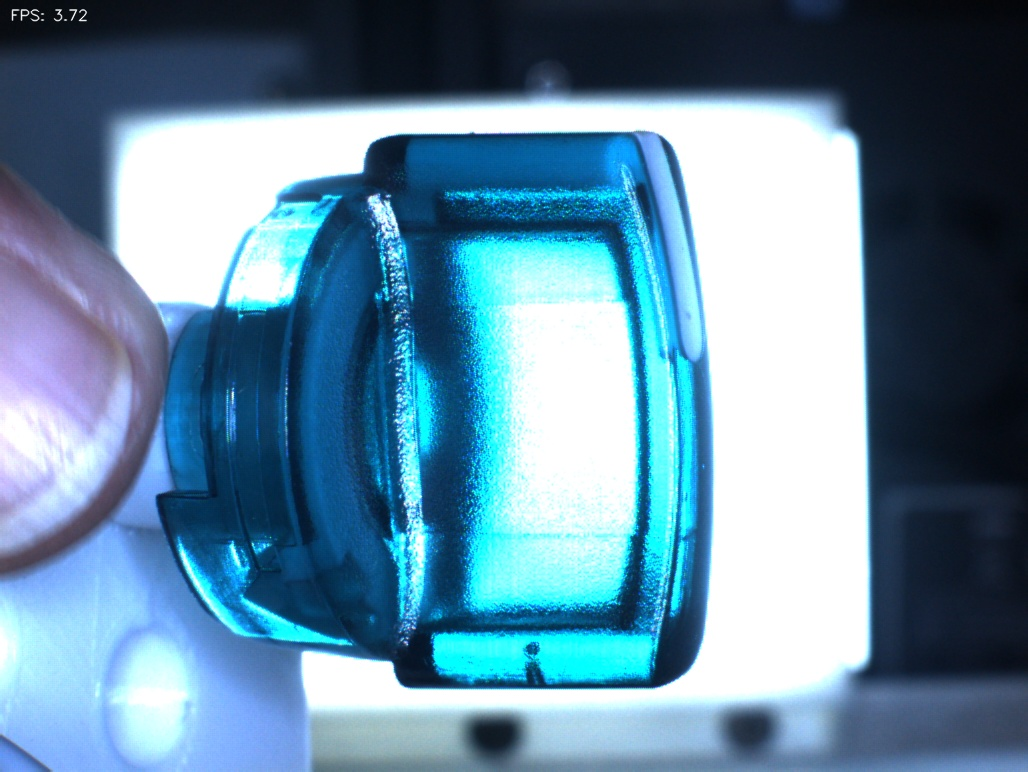Bulle: (488, 628, 579, 706)
